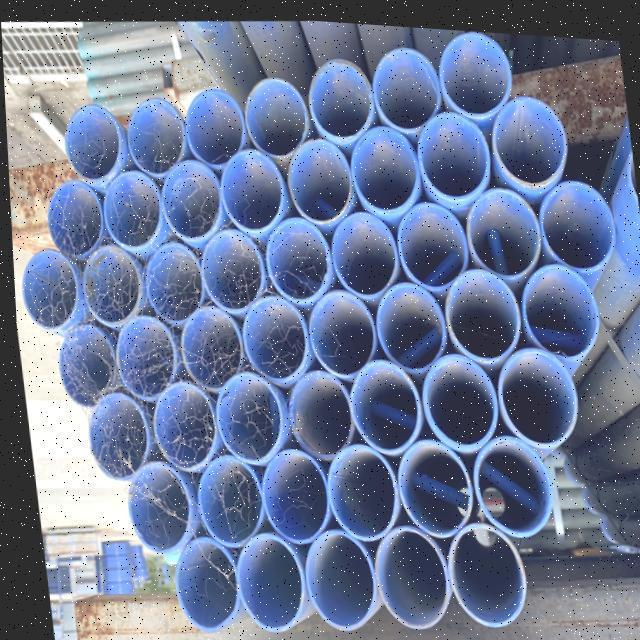pipe: (439, 516, 522, 620), (487, 339, 571, 438), (364, 522, 445, 624), (293, 523, 373, 624), (467, 426, 545, 528), (228, 523, 302, 625), (515, 259, 595, 353), (378, 190, 464, 277), (159, 531, 236, 626), (439, 259, 517, 352), (318, 435, 390, 535), (413, 349, 491, 441), (529, 167, 606, 260), (391, 433, 464, 530), (250, 442, 322, 539), (458, 175, 533, 265), (342, 353, 413, 446), (175, 300, 246, 393), (367, 275, 442, 363), (208, 364, 280, 455), (411, 105, 484, 194), (489, 90, 563, 177), (119, 461, 186, 555), (437, 25, 510, 111), (230, 291, 303, 375), (282, 363, 350, 452), (258, 213, 328, 299), (146, 377, 212, 468), (304, 283, 372, 371), (327, 197, 393, 286), (368, 40, 440, 121), (188, 452, 255, 539), (345, 121, 414, 205), (218, 142, 282, 229), (283, 129, 347, 215), (82, 387, 143, 477), (306, 54, 372, 135), (74, 239, 137, 323), (198, 222, 262, 304), (158, 152, 219, 237), (240, 73, 305, 152), (111, 312, 171, 397), (51, 323, 111, 406), (15, 242, 72, 329), (182, 84, 241, 167), (142, 239, 202, 320), (98, 165, 157, 247), (43, 176, 99, 259), (124, 93, 181, 174), (64, 100, 121, 178)
